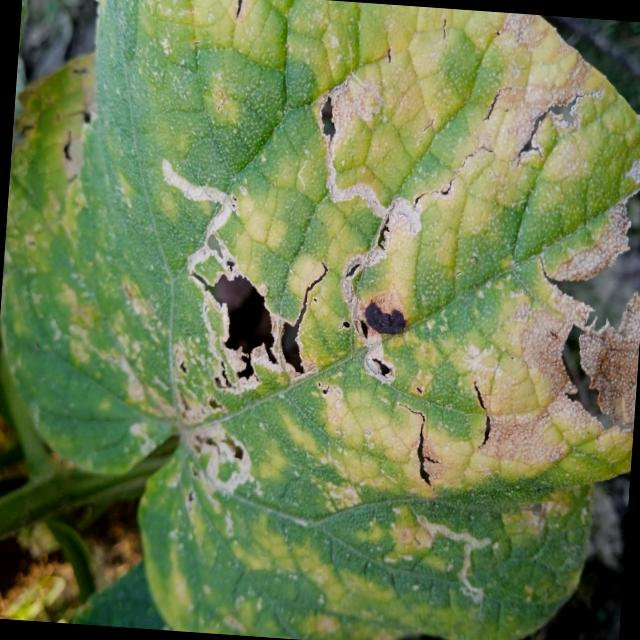cucumber_anthracnose: (27, 0, 640, 532)
